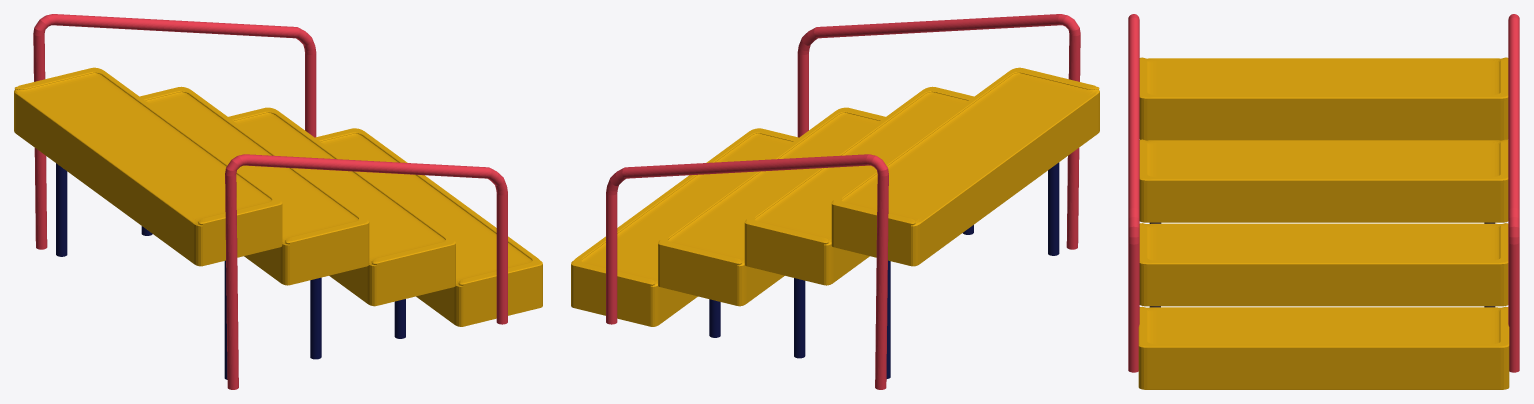
Rendered from Stairs.fbx.
3 views of the same model, side by side, from view 1: azimuth 30°, elevation 25°; view 2: azimuth 150°, elevation 25°; view 3: azimuth 270°, elevation 25° (orthographic).
Visible parts, largest first — view 1: Cube.004, Cube.001, Cube.003, Cube, Cylinder.003, Cylinder.007, Cylinder.002, Cylinder.004, Cylinder.005; view 2: Cube.004, Cube.001, Cube.003, Cube, Cylinder.007, Cylinder.003, Cylinder.006, Cylinder.001, Cylinder.002; view 3: Cube.003, Cube, Cube.001, Cube.004, Cylinder.003, Cylinder.007.
Boxes of the visible parts, x1=… form: Cube.004: x1=14, y1=67, x2=282, y2=266; Cube.001: x1=140, y1=86, x2=369, y2=285; Cube.003: x1=228, y1=107, x2=455, y2=306; Cube: x1=315, y1=128, x2=542, y2=326; Cylinder.003: x1=225, y1=154, x2=507, y2=389; Cylinder.007: x1=33, y1=14, x2=316, y2=249; Cylinder.002: x1=56, y1=163, x2=67, y2=256; Cylinder.004: x1=310, y1=277, x2=321, y2=359; Cylinder.005: x1=394, y1=299, x2=405, y2=338; Cube.004: x1=831, y1=67, x2=1099, y2=266; Cube.001: x1=744, y1=86, x2=973, y2=285; Cube.003: x1=658, y1=107, x2=885, y2=306; Cube: x1=571, y1=128, x2=798, y2=326; Cylinder.007: x1=606, y1=154, x2=888, y2=389; Cylinder.003: x1=797, y1=14, x2=1080, y2=249; Cylinder.006: x1=1048, y1=162, x2=1059, y2=255; Cylinder.001: x1=794, y1=278, x2=805, y2=358; Cylinder.002: x1=886, y1=260, x2=890, y2=378; Cube.003: x1=1139, y1=223, x2=1508, y2=306; Cube: x1=1138, y1=306, x2=1509, y2=389; Cube.001: x1=1139, y1=139, x2=1508, y2=222; Cube.004: x1=1139, y1=57, x2=1508, y2=140; Cylinder.003: x1=1128, y1=14, x2=1139, y2=372; Cylinder.007: x1=1508, y1=14, x2=1519, y2=372.
Bounding box in the file's own units: 215 × 136 × 211.
